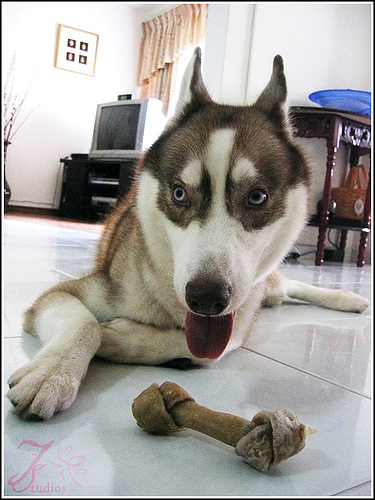dog: (7, 46, 315, 421)
